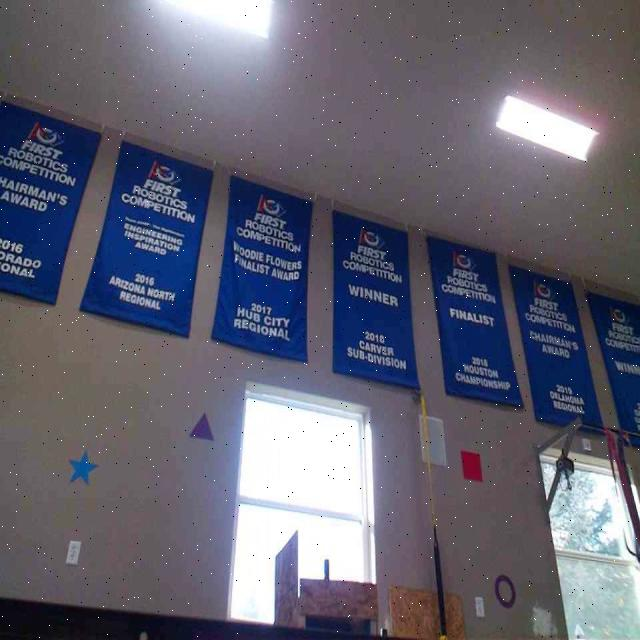ring_purple: (492, 574, 517, 608)
square_red: (459, 449, 483, 482)
star_blue: (68, 451, 99, 484)
triangle_purple: (187, 411, 213, 441)
